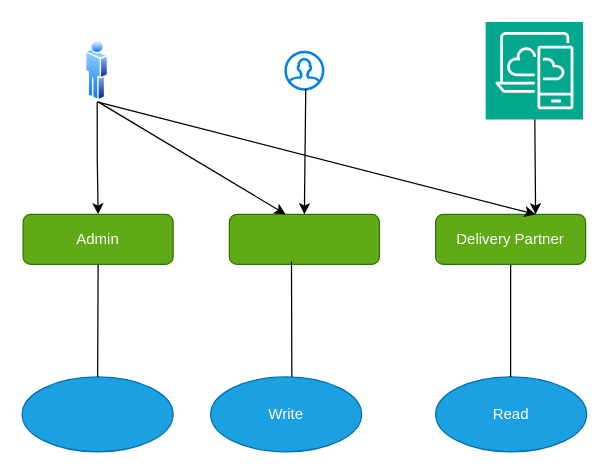
The diagram is 609 pixels wide and 474 high, and some of its shapes have lost their labels. Each missing label, with the centre of its shape:
Delete: the point at 97,414
User: the point at 303,238
